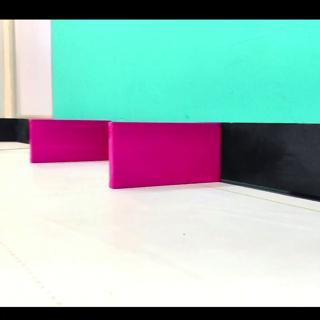xparking: (110, 122, 218, 182), (31, 119, 108, 161)
